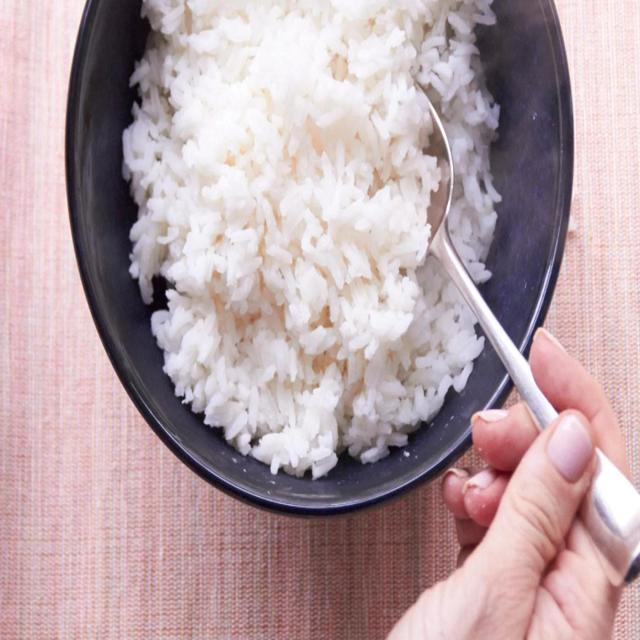rice: (123, 4, 496, 479)
